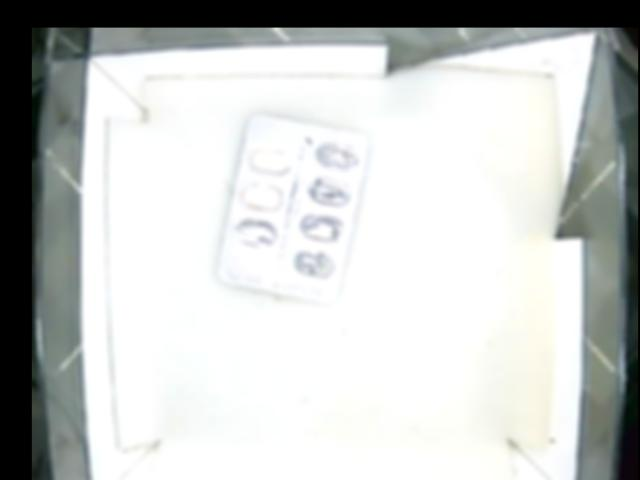Medicine: (223, 114, 371, 303)
